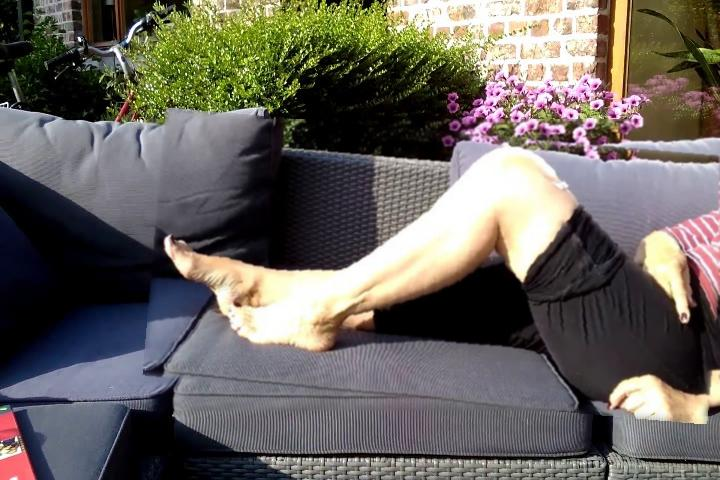lower_body: (148, 120, 720, 412)
